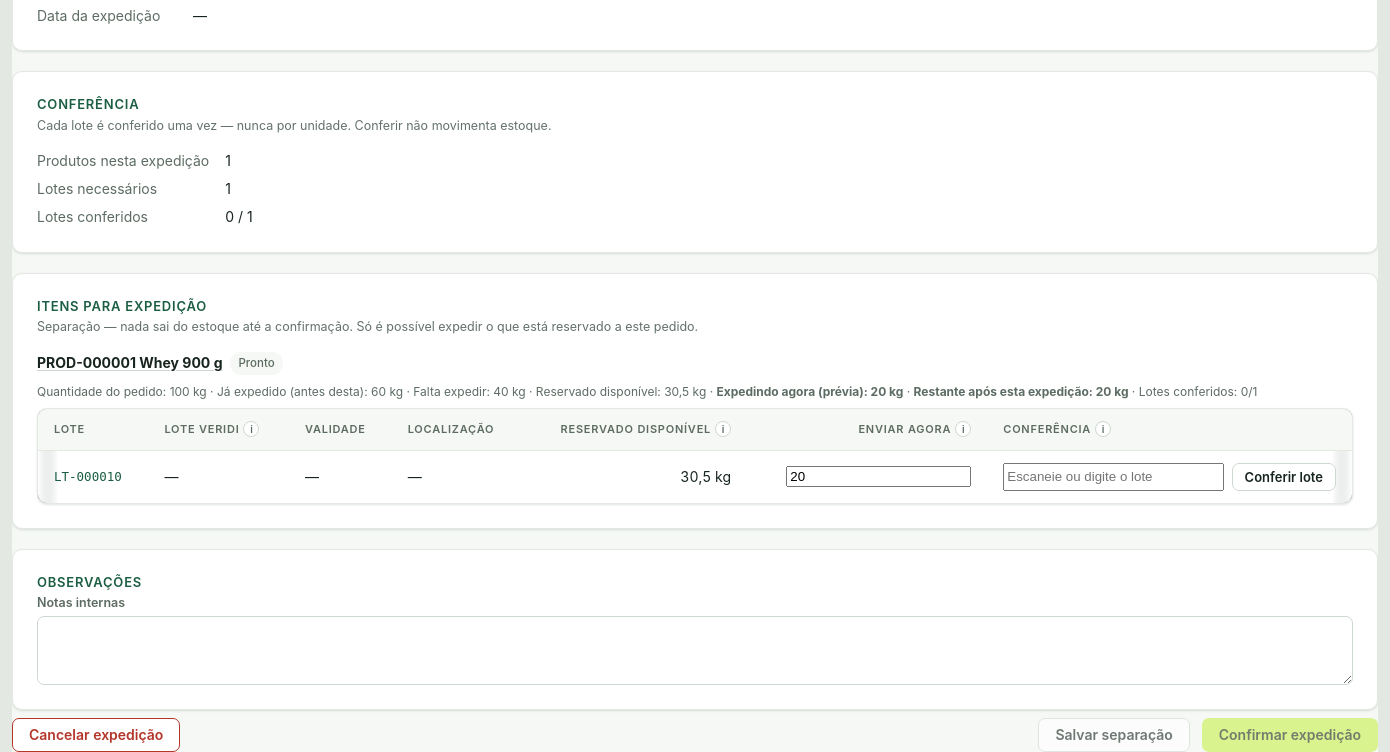
Expedição — ações vizinhas não herdam o salvamento › conferir lote é outra ação: a frase da separação sai e o resultado é o selo
This screenshot has width=1390, height=752.
(page scrolled)
Type "Doca 2" into the text box labelled "Notas internas". click: (695, 651)
box: [37,616,1353,685]
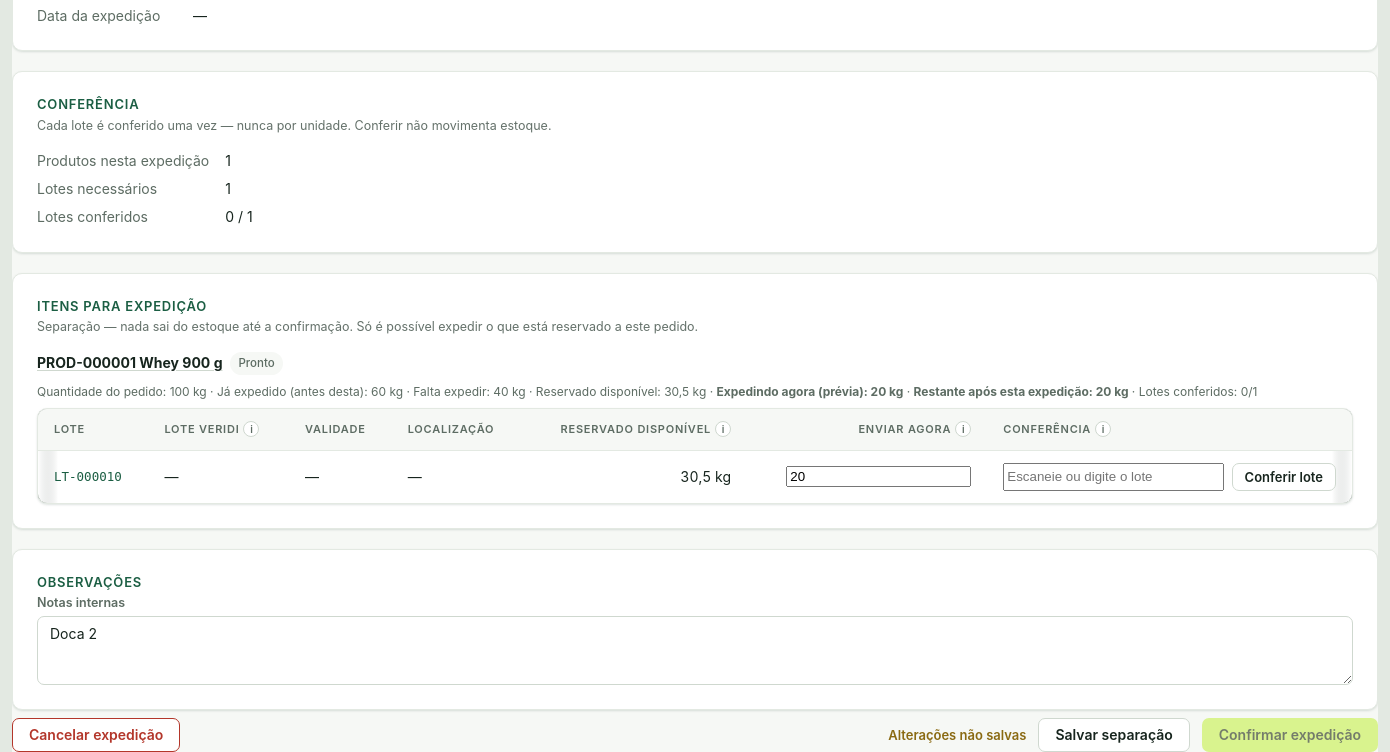
Click the button "Salvar separação". click: (1114, 735)
box: [1038,718,1190,751]
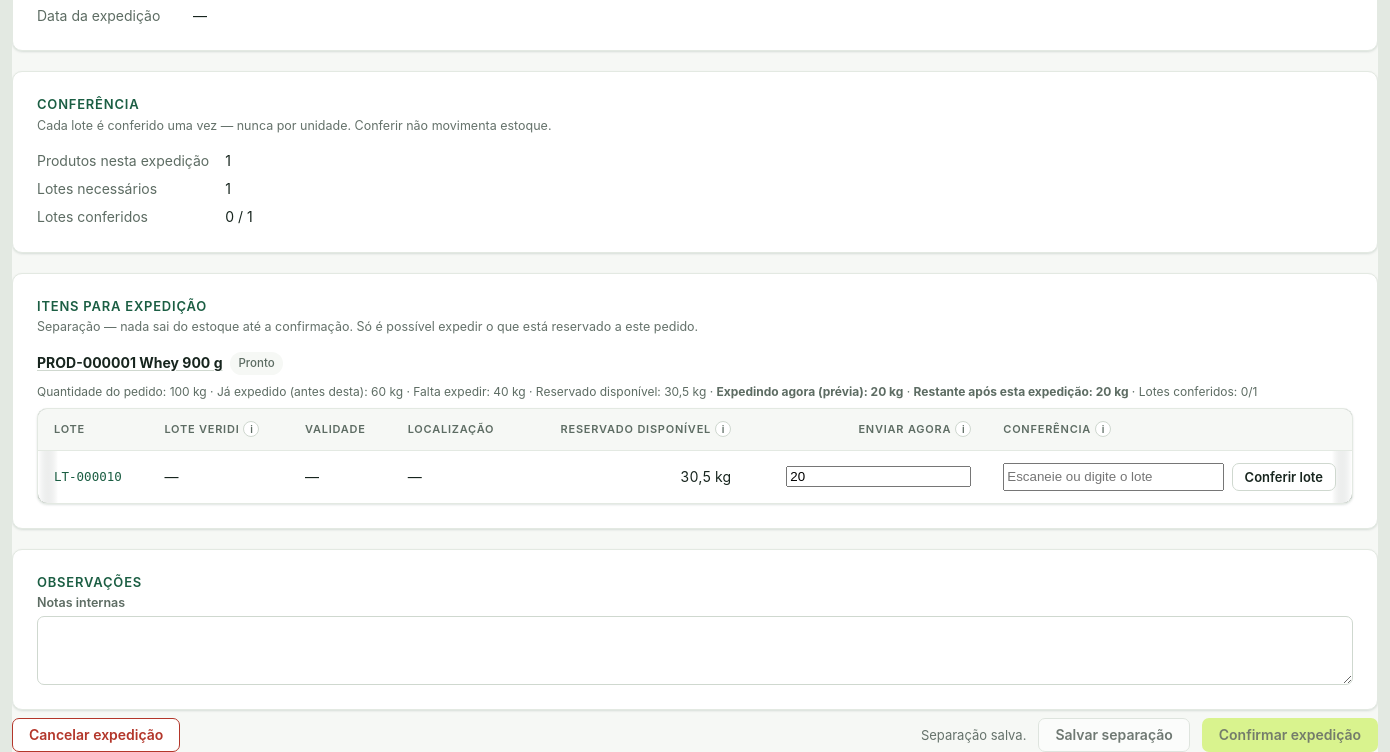
Expected: the text "Separação salva." is shown, [921,726,1026,745]
Type "LT-000010" into the field named "Lote conferido da linha LT-000010". click: (1113, 477)
box: [1003,463,1224,491]
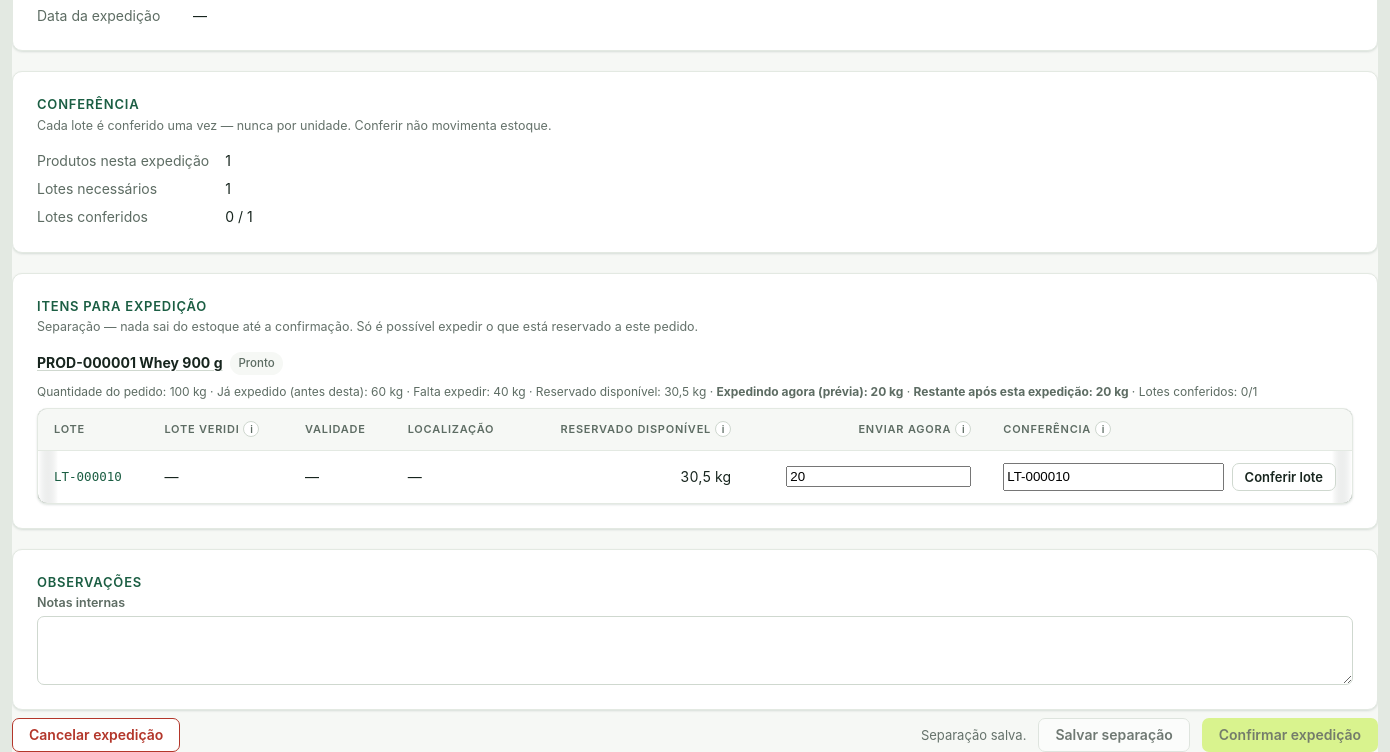
Click the button "Conferir lote". click: (1284, 477)
box: [1232,463,1336,491]
(page scrolled)
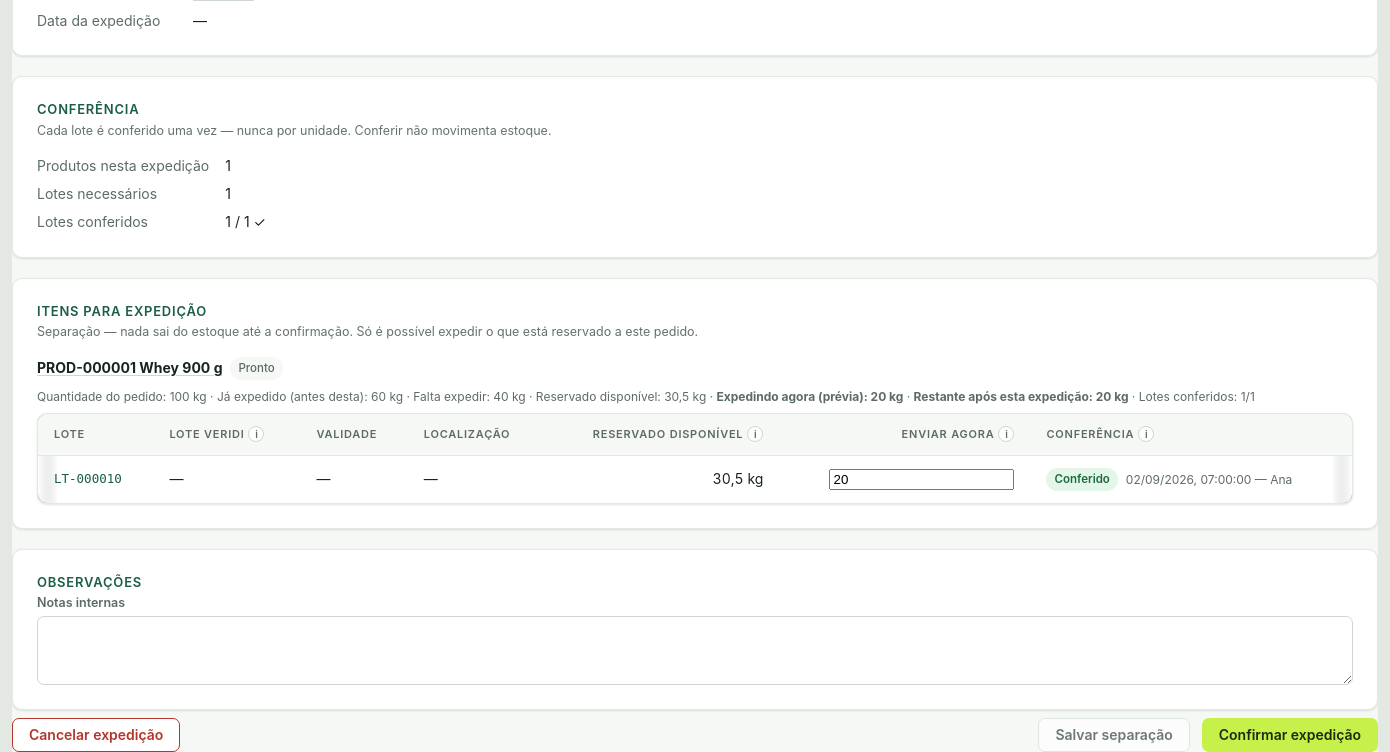
Expected: the text "Conferido" is shown, [1046,468,1118,491]
Expected: the text "Separação salva." is gone
